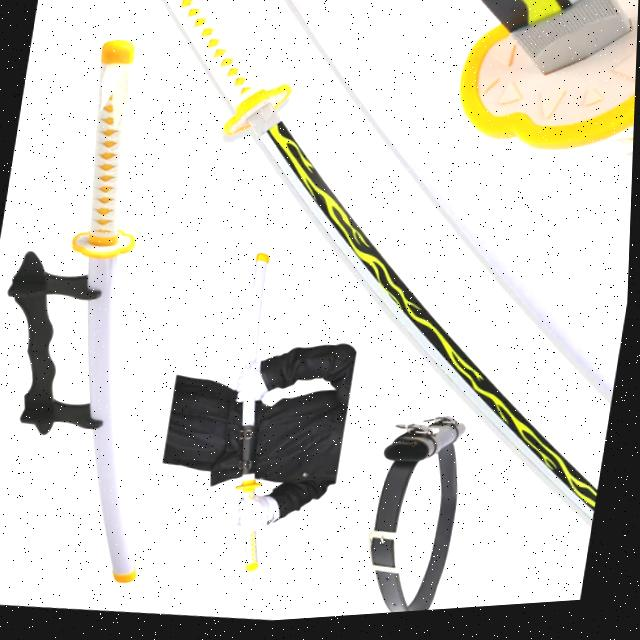knife: (41, 0, 640, 595), (16, 32, 221, 594), (345, 0, 640, 302), (206, 252, 310, 580)
